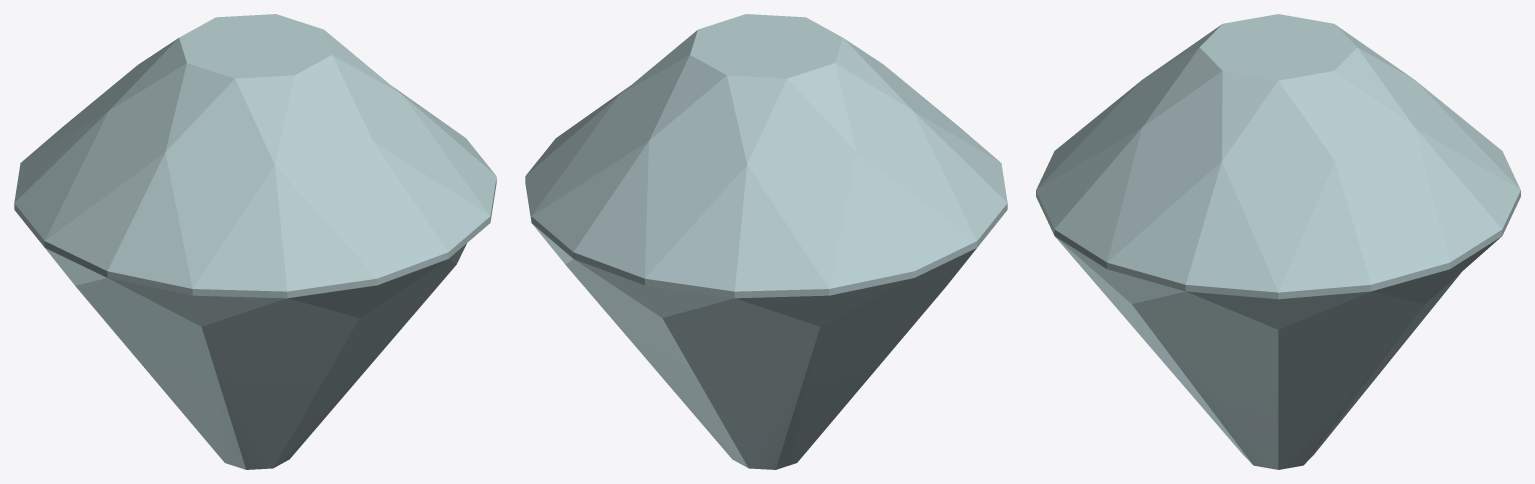
Rendered from stone_oldEuropean_cut.fbx.
3 renders of one model, left to right at view 1: azimuth 30°, elevation 25°; view 2: azimuth 150°, elevation 25°; view 3: azimuth 270°, elevation 25°, orthographic.
Parts seen in each view (by area): view 1: stone_oldEuropean_cut; view 2: stone_oldEuropean_cut; view 3: stone_oldEuropean_cut.
Part boxes in pixels (bbox=[...]): stone_oldEuropean_cut: bbox=[14, 14, 496, 469]; stone_oldEuropean_cut: bbox=[525, 14, 1007, 469]; stone_oldEuropean_cut: bbox=[1036, 14, 1520, 469].
Bounding box in the file's own units: 0.9247 × 0.8582 × 0.9247.
